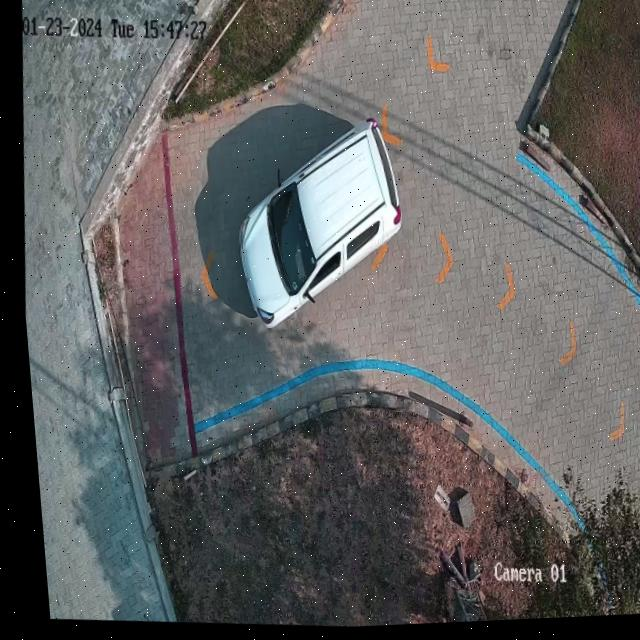car: (236, 123, 396, 327)
